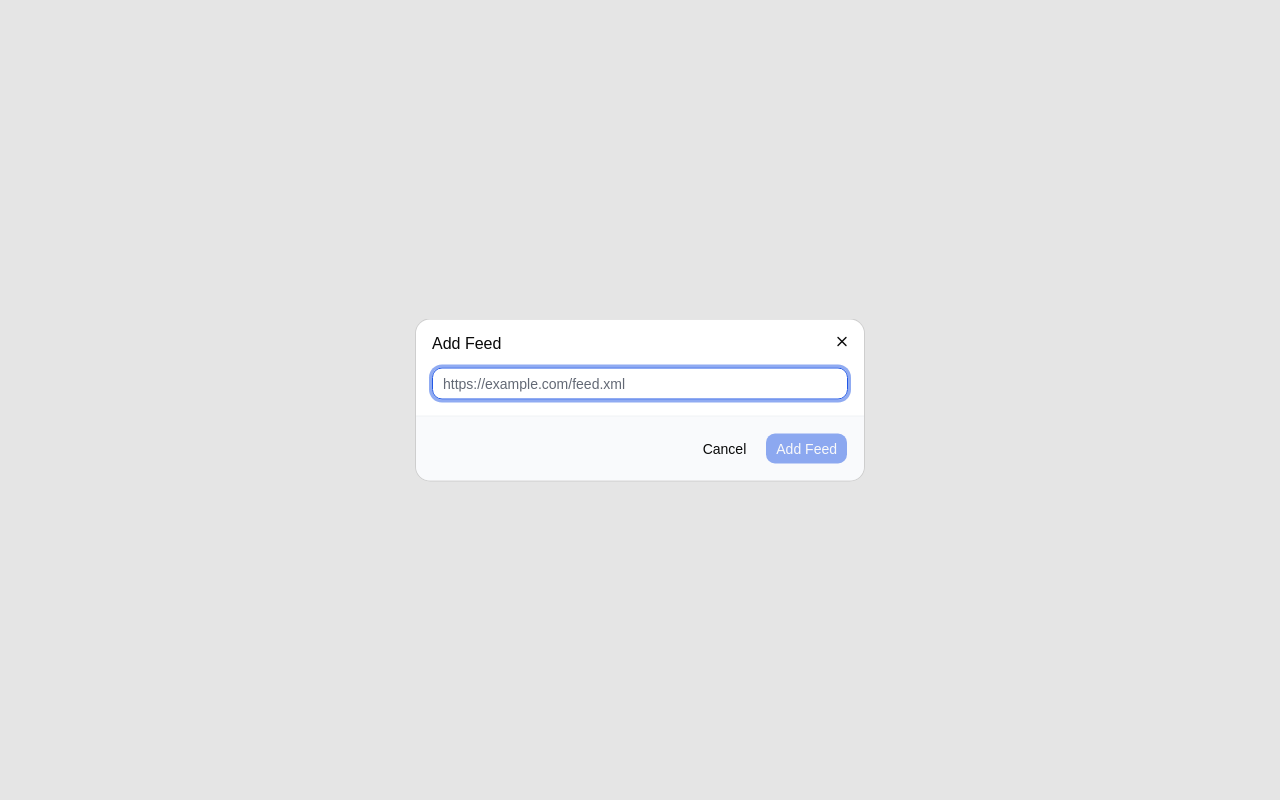
AddFeedDialog › shows generic error on other failures
Step 1. Type "https://blog.com/rss" into the field with placeholder "https://example.com/feed.xml" → [640, 384], box [432, 368, 848, 400]
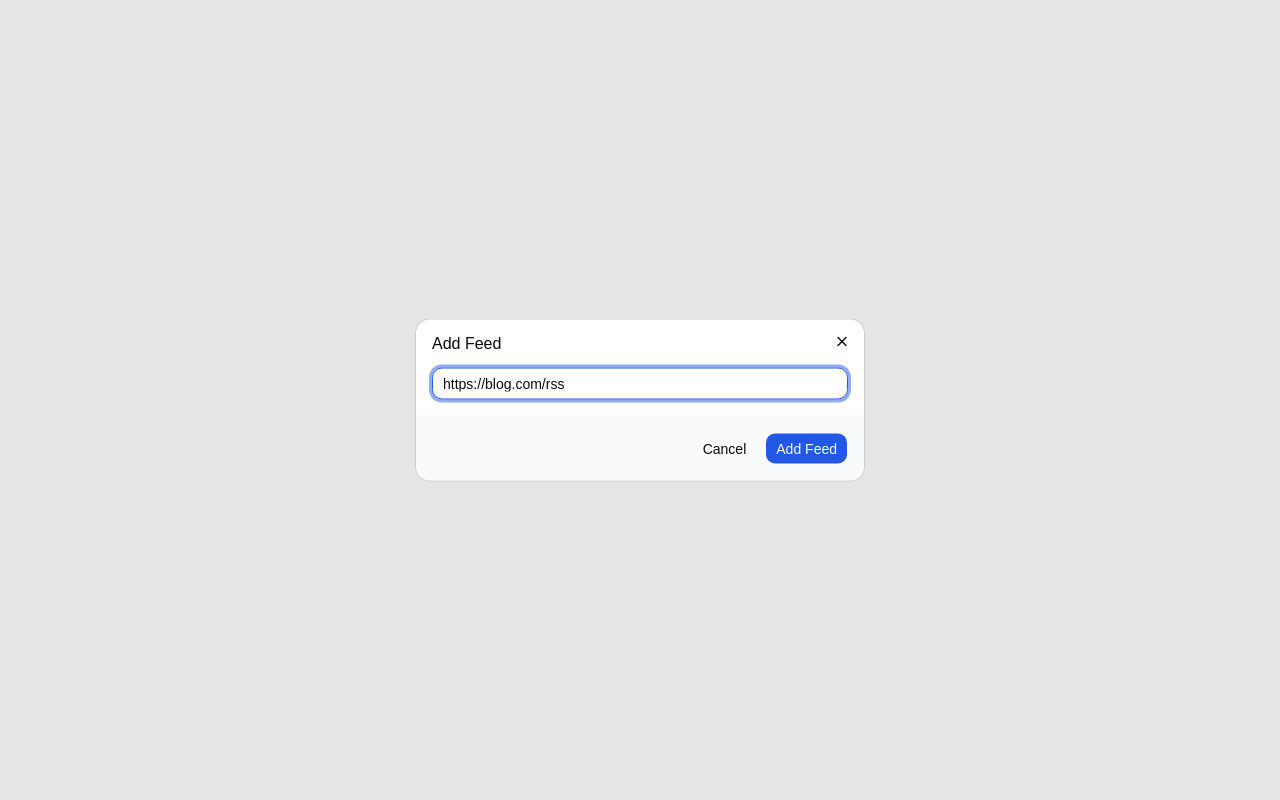
Step 2. Click the button "Add Feed" → [807, 448], box [765, 432, 848, 464]
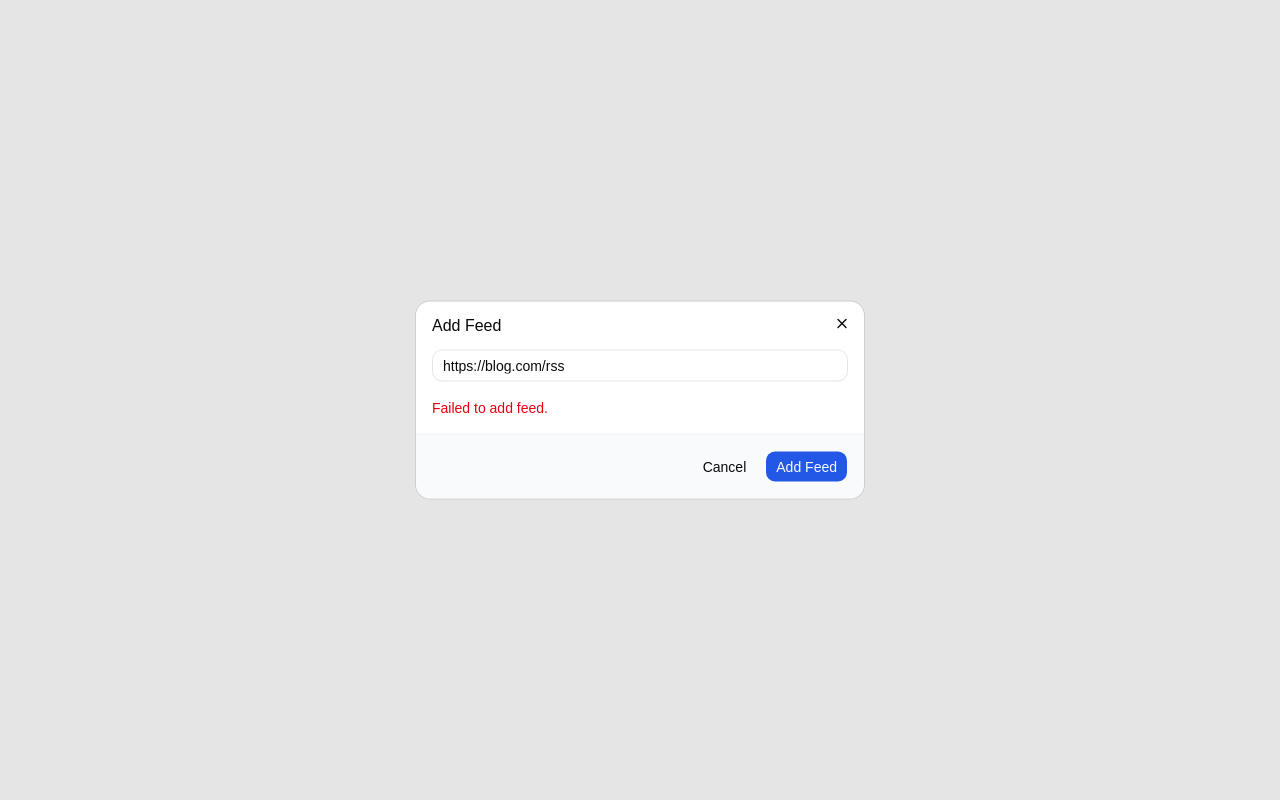
Check: the text "Failed to add feed." is shown, box [432, 400, 548, 416]
